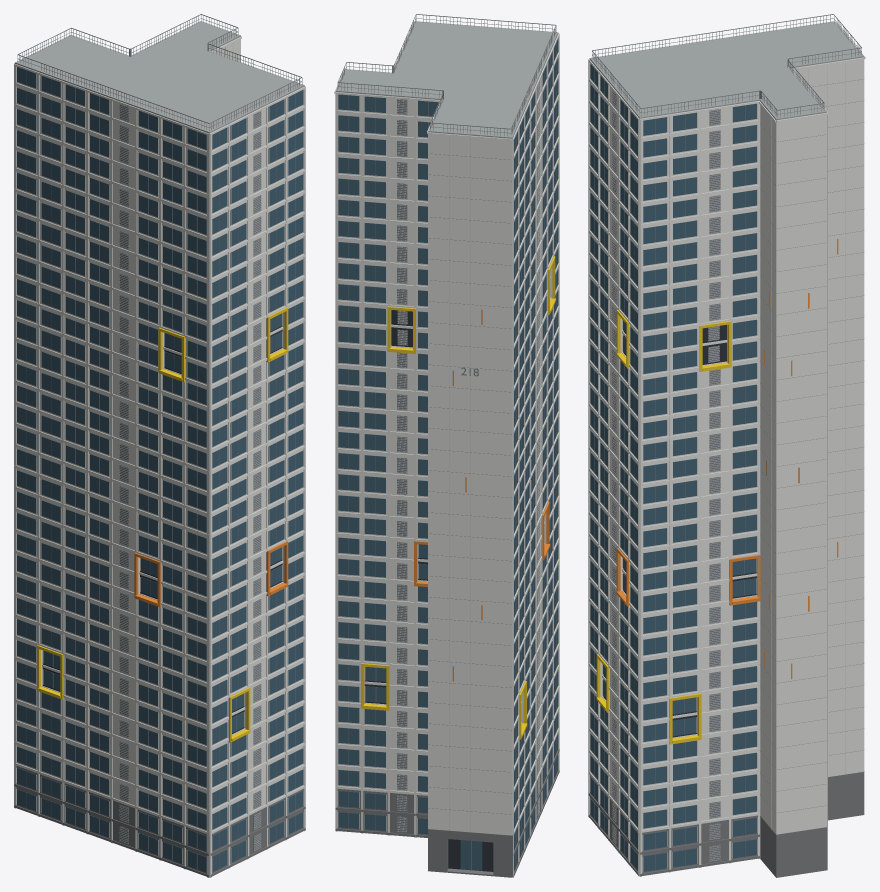
File: bespoke-songpa-helio-city-218.glb
3 renders of one model, left to right at view 1: azimuth 30°, elevation 25°; view 2: azimuth 150°, elevation 25°; view 3: azimuth 270°, elevation 25°, orthographic. The views are drawn at different scales.
Parts seen in each view (by area): view 1: Helio218_editable_Helio218_dark_blue_grey_glazing, Helio218_editable_Helio218_white_slab_frames, Helio218_editable_Helio218_grey_service_grille, Helio218_editable_Helio218_low_roof_deck, Helio218_editable_Helio218_blankwall_grey_panels, Helio218_editable_Helio218_dark_grey_twofloor_base, Helio218_editable_Helio218_yellow_projecting_rectangular_fra, Helio218_editable_Helio218_orange_narrow_accent; view 2: Helio218_editable_Helio218_white_slab_frames, Helio218_editable_Helio218_dark_blue_grey_glazing, Helio218_editable_Helio218_grey_service_grille, Helio218_editable_Helio218_low_roof_deck, Helio218_editable_Helio218_blankwall_grey_panels, Helio218_editable_Helio218_dark_grey_twofloor_base, Helio218_editable_Helio218_yellow_projecting_rectangular_fra, Helio218_editable_Helio218_deep_shaded_frame_recess, Helio218_editable_Helio218_orange_narrow_accent; view 3: Helio218_editable_Helio218_white_slab_frames, Helio218_editable_Helio218_dark_blue_grey_glazing, Helio218_editable_Helio218_grey_service_grille, Helio218_editable_Helio218_low_roof_deck, Helio218_editable_Helio218_dark_grey_twofloor_base, Helio218_editable_Helio218_blankwall_grey_panels, Helio218_editable_Helio218_yellow_projecting_rectangular_fra, Helio218_editable_Helio218_orange_narrow_accent, Helio218_editable_Helio218_deep_shaded_frame_recess.
Boxes of the visible parts, x1,y1,x2,y2 form: Helio218_editable_Helio218_dark_blue_grey_glazing: (17, 67, 303, 872); Helio218_editable_Helio218_white_slab_frames: (14, 36, 305, 877); Helio218_editable_Helio218_grey_service_grille: (17, 14, 302, 868); Helio218_editable_Helio218_low_roof_deck: (15, 21, 304, 133); Helio218_editable_Helio218_blankwall_grey_panels: (119, 43, 261, 850); Helio218_editable_Helio218_dark_grey_twofloor_base: (14, 766, 305, 877); Helio218_editable_Helio218_yellow_projecting_rectangular_fra: (37, 307, 288, 742); Helio218_editable_Helio218_orange_narrow_accent: (134, 541, 288, 607); Helio218_editable_Helio218_white_slab_frames: (334, 22, 559, 877); Helio218_editable_Helio218_dark_blue_grey_glazing: (338, 38, 558, 870); Helio218_editable_Helio218_grey_service_grille: (337, 14, 556, 870); Helio218_editable_Helio218_low_roof_deck: (335, 21, 558, 138); Helio218_editable_Helio218_blankwall_grey_panels: (397, 81, 539, 831); Helio218_editable_Helio218_dark_grey_twofloor_base: (335, 749, 559, 877); Helio218_editable_Helio218_yellow_projecting_rectangular_fra: (361, 256, 555, 739); Helio218_editable_Helio218_deep_shaded_frame_recess: (364, 310, 493, 871); Helio218_editable_Helio218_orange_narrow_accent: (414, 309, 550, 681); Helio218_editable_Helio218_white_slab_frames: (588, 22, 865, 876); Helio218_editable_Helio218_dark_blue_grey_glazing: (590, 64, 756, 871); Helio218_editable_Helio218_grey_service_grille: (592, 14, 863, 869); Helio218_editable_Helio218_low_roof_deck: (589, 21, 864, 120); Helio218_editable_Helio218_dark_grey_twofloor_base: (588, 772, 864, 877); Helio218_editable_Helio218_blankwall_grey_panels: (612, 63, 845, 861); Helio218_editable_Helio218_yellow_projecting_rectangular_fra: (596, 310, 731, 744); Helio218_editable_Helio218_orange_narrow_accent: (616, 239, 838, 679); Helio218_editable_Helio218_deep_shaded_frame_recess: (603, 325, 756, 737).
Size of the model in its own units: 27.41 by 99 by 32.41.
